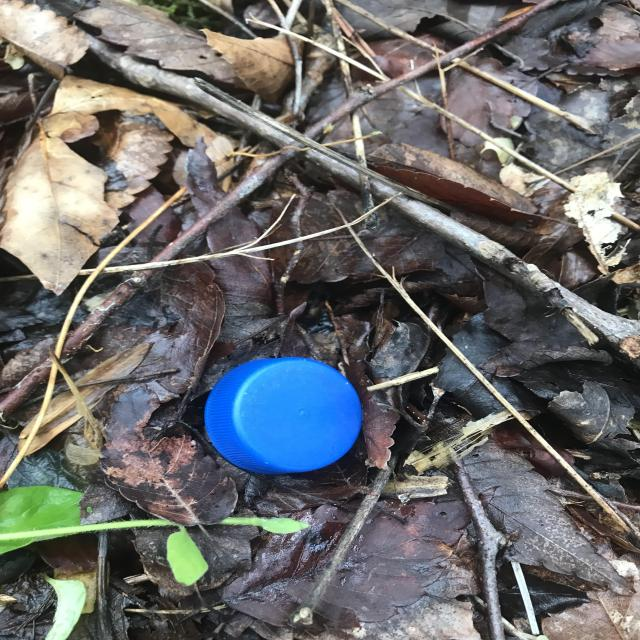litter: (201, 354, 366, 474)
